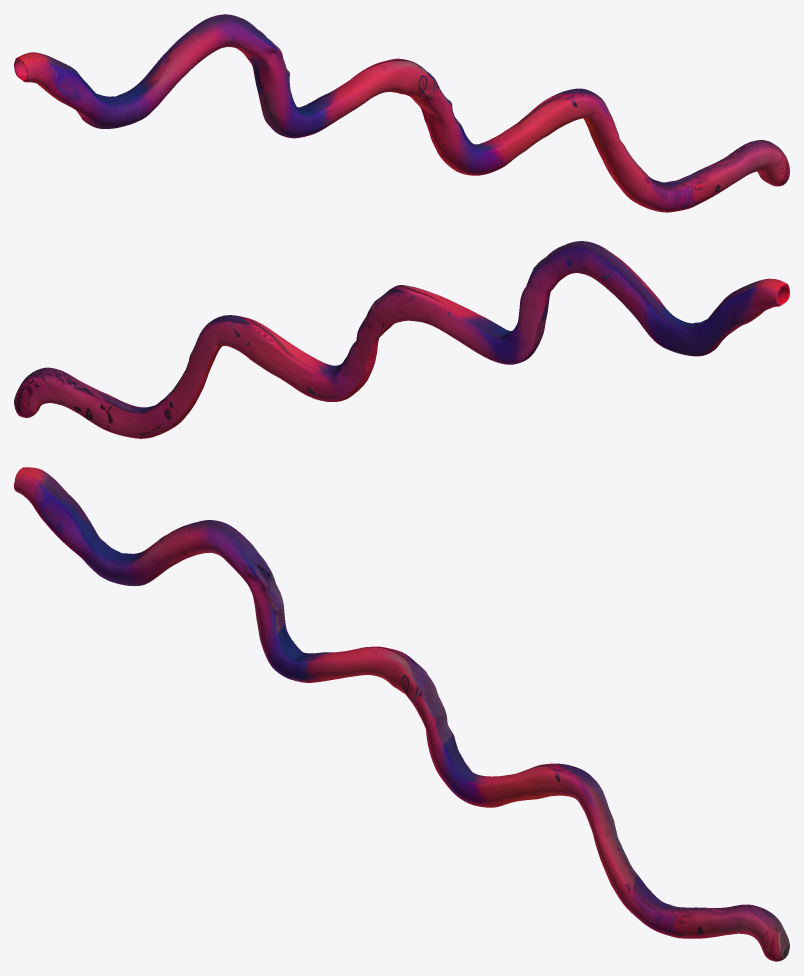
Rendered from spirillum-volutans.glb.
3 renders of one model, top to bottom at view 1: azimuth 30°, elevation 25°; view 2: azimuth 150°, elevation 25°; view 3: azimuth 330°, elevation 25°, orthographic.
Visible parts, largest first — view 1: tripo_node_24a64d98-b147-4af7-b044-a797dc1695e7; view 2: tripo_node_24a64d98-b147-4af7-b044-a797dc1695e7; view 3: tripo_node_24a64d98-b147-4af7-b044-a797dc1695e7.
Boxes of the visible parts, bbox=[...] form: tripo_node_24a64d98-b147-4af7-b044-a797dc1695e7: bbox=[14, 14, 789, 212]; tripo_node_24a64d98-b147-4af7-b044-a797dc1695e7: bbox=[14, 241, 789, 438]; tripo_node_24a64d98-b147-4af7-b044-a797dc1695e7: bbox=[14, 467, 789, 961].
Size of the model in its own units: 1 by 0.3908 by 0.0427.
Materials: 1 (1 with a texture image).
